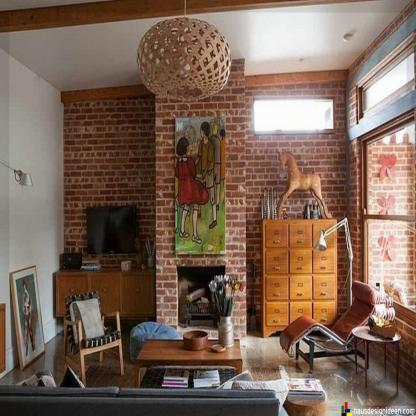bantal: (71, 302, 107, 339)
buku: (192, 370, 222, 387), (162, 370, 188, 389)
kursi: (64, 295, 126, 379)
lampu: (312, 224, 335, 252)
lukisan: (172, 114, 231, 260)
meja: (132, 335, 252, 388)
